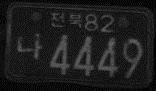2: (100, 13, 115, 34)
4: (72, 34, 95, 76), (49, 33, 71, 76), (97, 36, 119, 77)
8: (84, 12, 98, 32)
9: (121, 37, 143, 81)
나: (16, 32, 43, 60)
전북_O: (50, 10, 82, 29)
